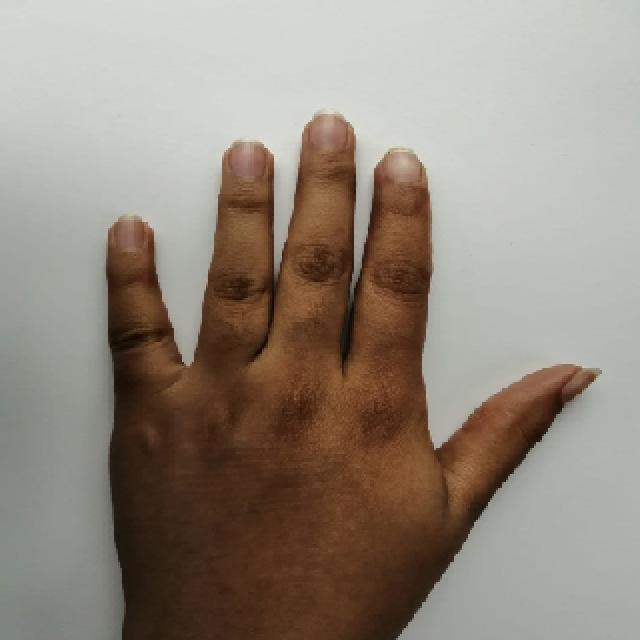Nail: (228, 139, 266, 178), (309, 114, 349, 151), (561, 368, 601, 402), (384, 149, 421, 183), (112, 218, 145, 250)
